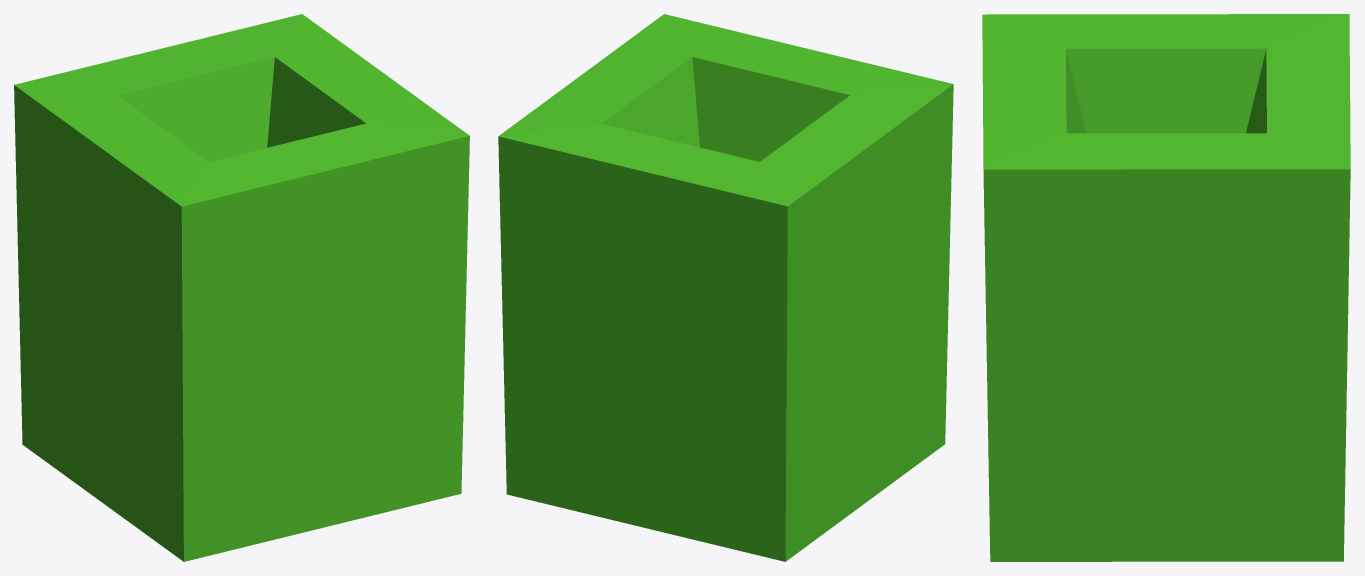
Rendered from urn01_s02.FBX.
3 views of the same model, side by side, from view 1: azimuth 30°, elevation 25°; view 2: azimuth 150°, elevation 25°; view 3: azimuth 270°, elevation 25° (orthographic). The views are drawn at different scales.
Visible parts, largest first — view 1: urn01_s02; view 2: urn01_s02; view 3: urn01_s02.
Part boxes in pixels (x1,y1,x2,y2): urn01_s02: [14, 14, 469, 561]; urn01_s02: [498, 14, 953, 561]; urn01_s02: [982, 14, 1350, 561].
Bounding box in the file's own units: 56.14 × 56.14 × 66.6.
Materials: 1 (1 with a texture image).
